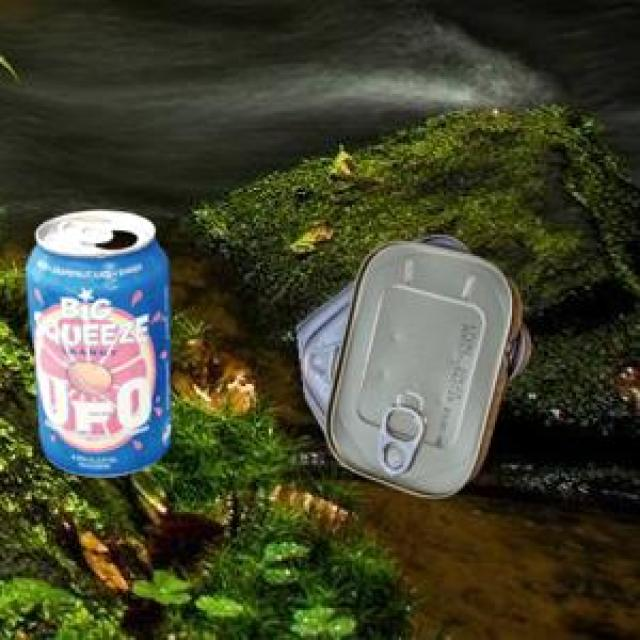logam: (293, 234, 528, 494), (22, 208, 167, 473)
